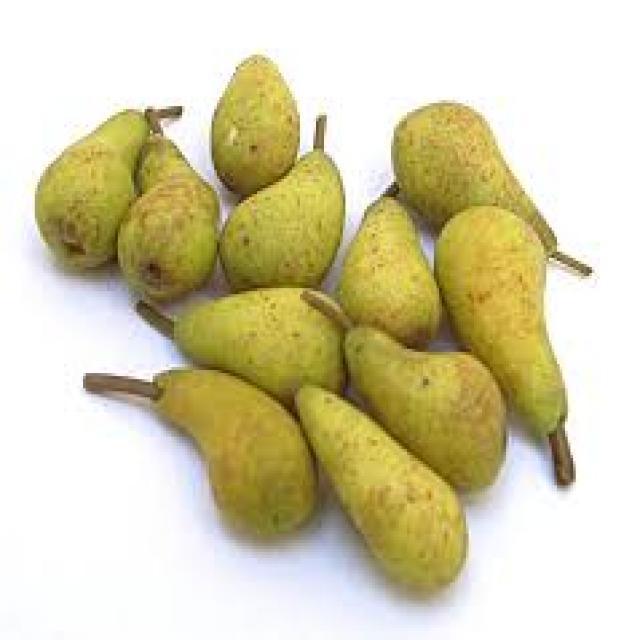organic waste: (80, 367, 319, 534), (292, 386, 466, 588), (332, 310, 503, 494), (434, 203, 562, 446), (391, 100, 554, 255), (137, 298, 348, 398), (217, 146, 340, 291), (120, 115, 217, 298), (32, 106, 137, 267), (340, 188, 439, 340), (214, 49, 292, 182)
